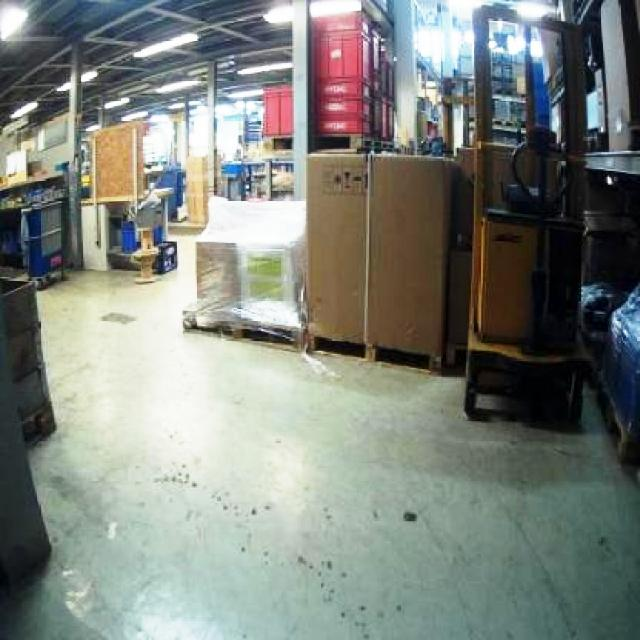ground: (0, 222, 638, 638)
pallet: (460, 0, 588, 426), (303, 148, 458, 372), (575, 146, 638, 480), (0, 262, 55, 638), (180, 197, 308, 352), (474, 206, 582, 351), (303, 149, 369, 357), (0, 272, 57, 448), (463, 346, 588, 426), (0, 166, 69, 288), (106, 186, 175, 283), (129, 226, 158, 283)
